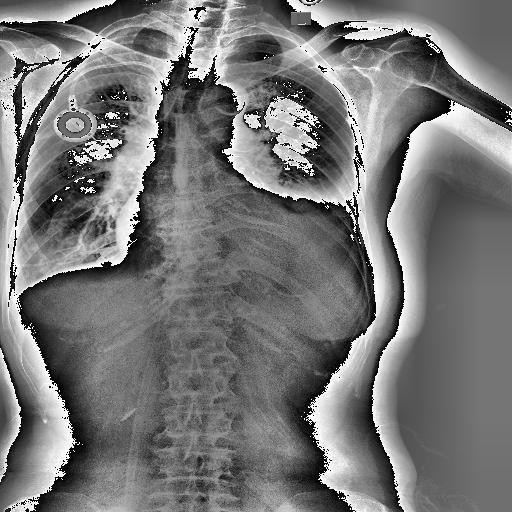0- Aortic enlargement: (200, 81, 248, 130), (192, 81, 250, 115), (200, 80, 250, 118)
10- Pleural effusion: (190, 164, 364, 260), (248, 164, 368, 292), (322, 176, 364, 255)
11- Pleural thickening: (222, 34, 286, 44), (110, 25, 149, 38)
13- Pulmonary fibrosis: (96, 31, 144, 103)
2- Calcification: (214, 103, 246, 114)
3- Cardiomegaly: (112, 205, 323, 278)
7- Lung Opacity: (207, 120, 306, 180), (42, 189, 119, 264), (258, 175, 354, 214), (259, 192, 355, 210)
